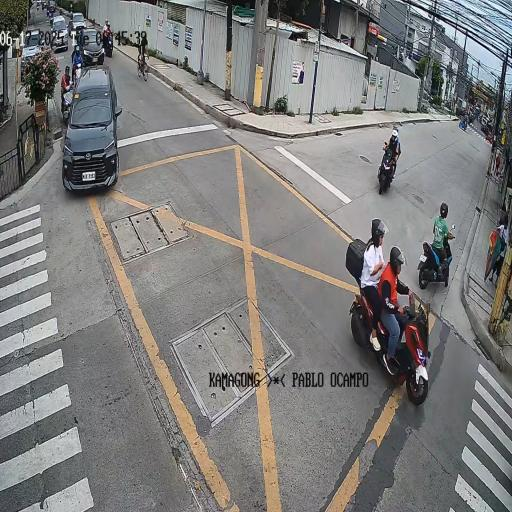Car: (68, 70, 153, 212), (76, 28, 108, 66), (49, 12, 73, 60)
Motor: (336, 205, 424, 436), (422, 194, 463, 296), (365, 109, 401, 201), (52, 63, 74, 140), (70, 40, 84, 90), (102, 14, 117, 59)
Not Accident: (53, 66, 127, 176)
